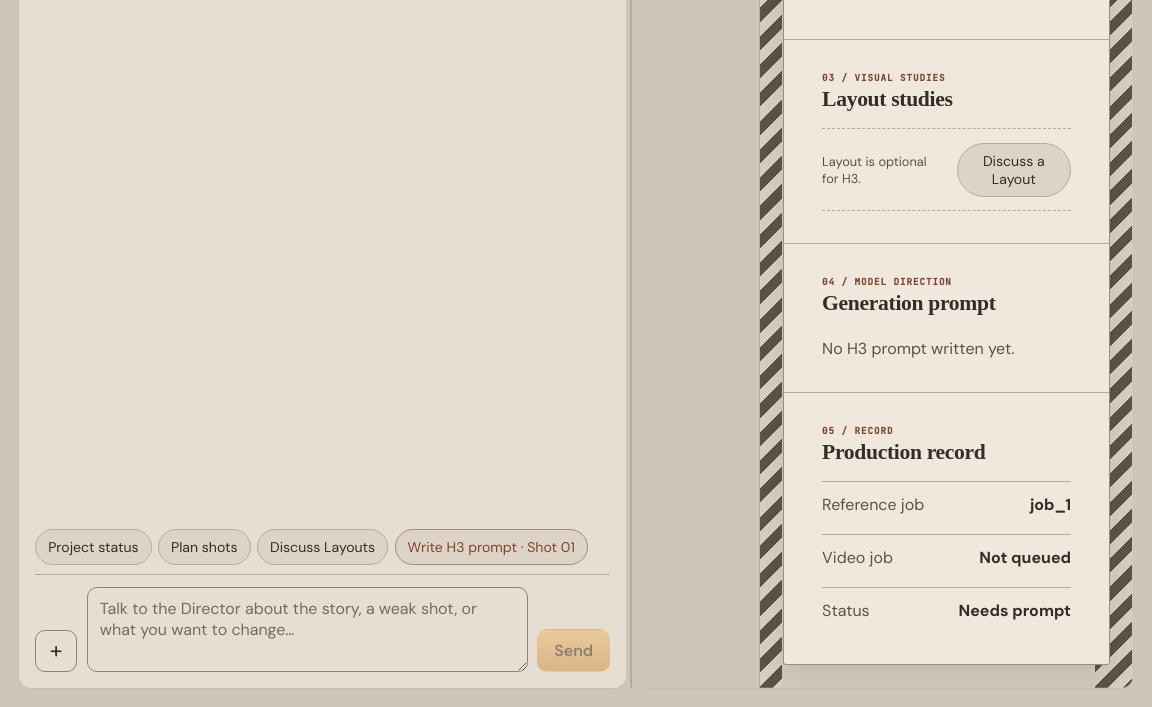
Test case: Director shot actions › cancels the backend session without adding an error bubble
The width and height of the screenshot is (1152, 707).
(page scrolled)
Replace the text in the text box with placeholder "Talk to the Director" with "Plan it" at (307, 630), box [87, 587, 528, 672]
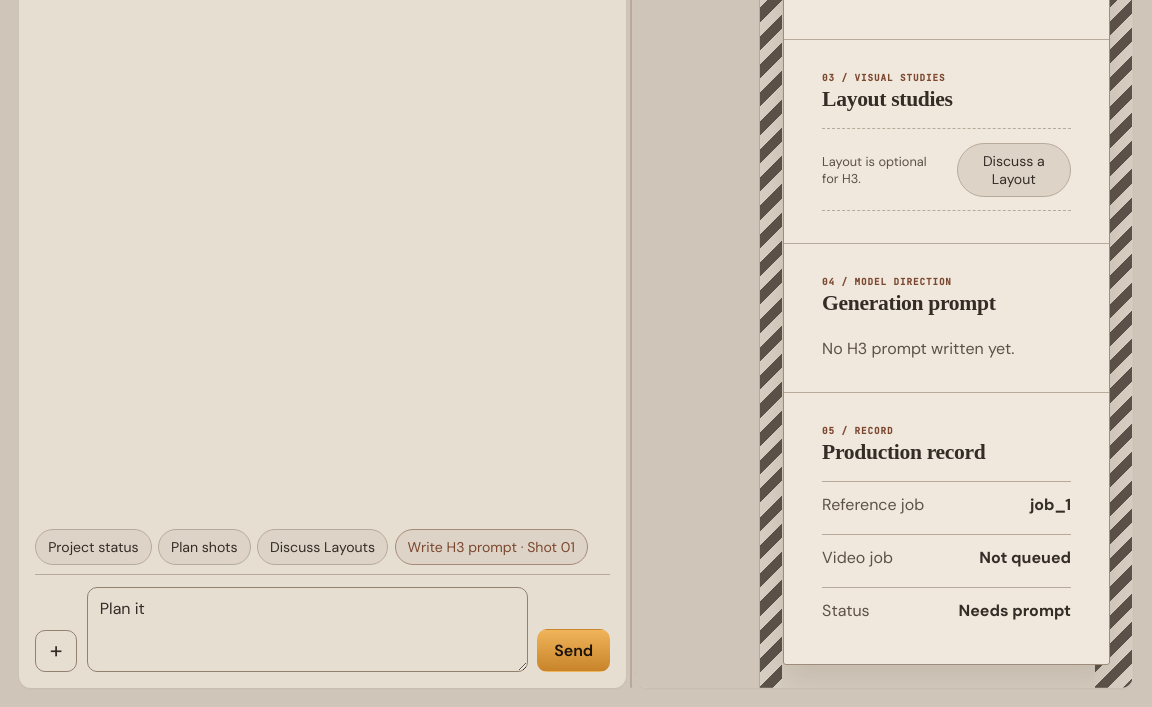
Click the button "Send" at (574, 650), box [537, 629, 610, 672]
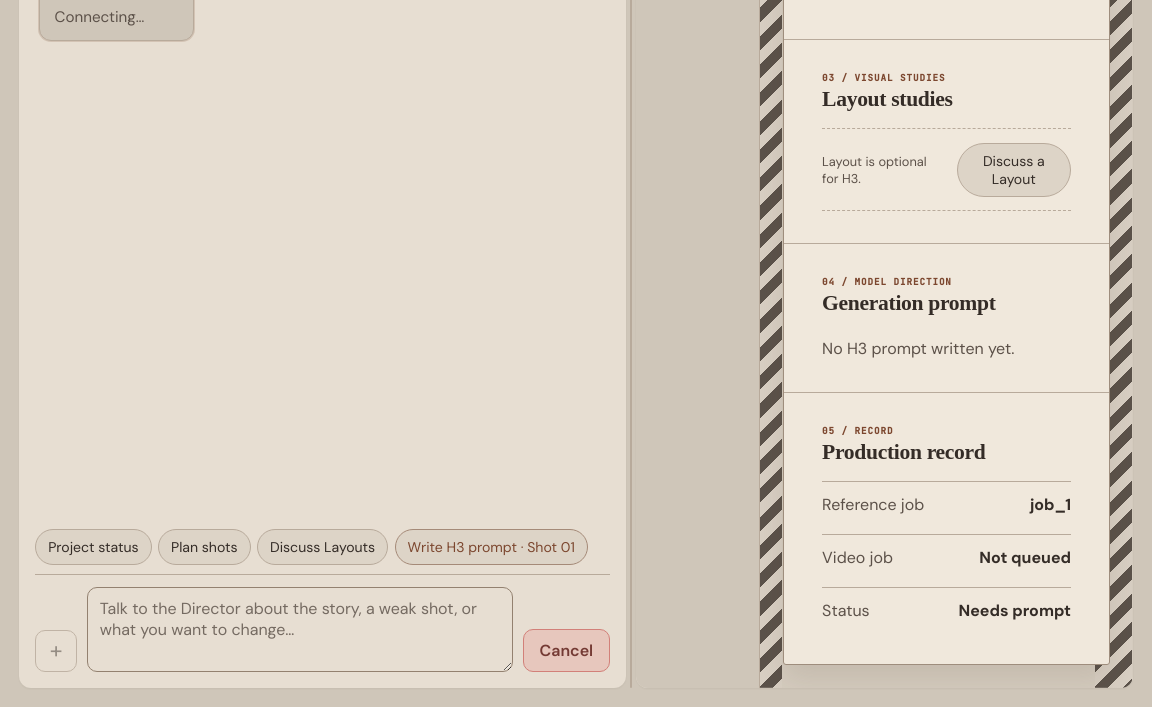
Click the button "Cancel" at (566, 650), box [522, 629, 610, 672]
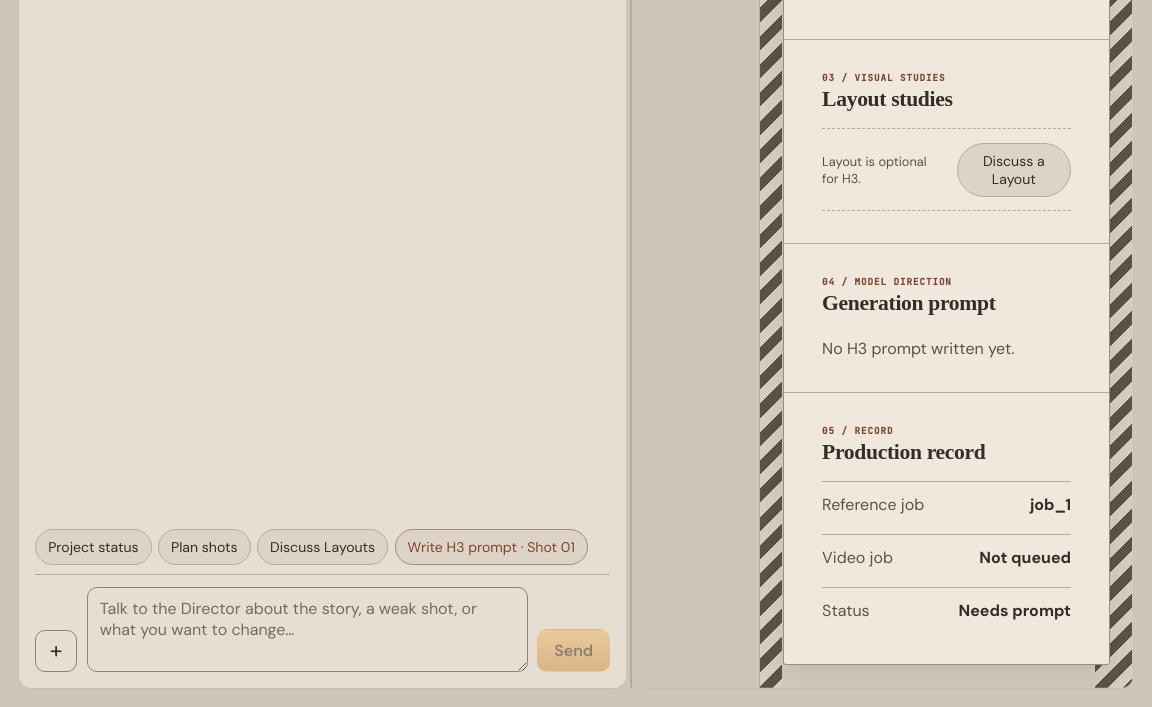
Expected: the button "Send" is shown, [537, 629, 610, 672]
